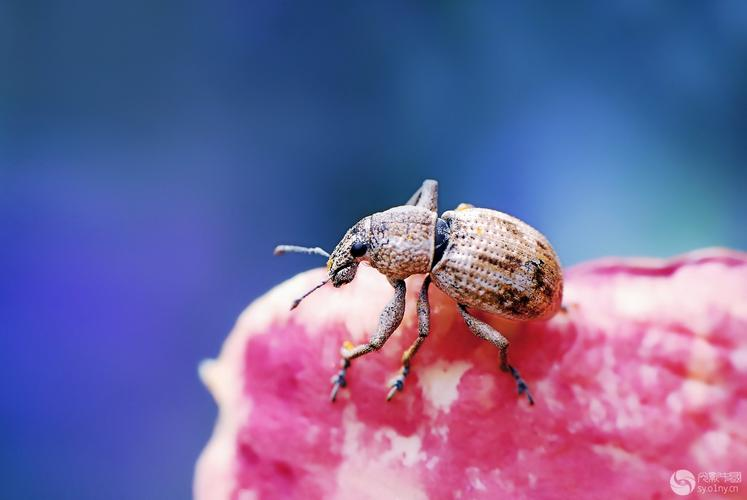Curculionidae: (271, 178, 563, 406)
